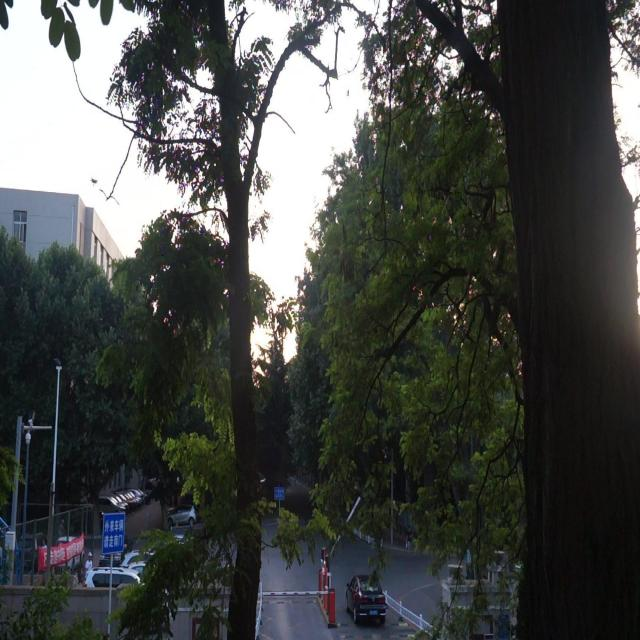UAV: (90, 176, 98, 187)
